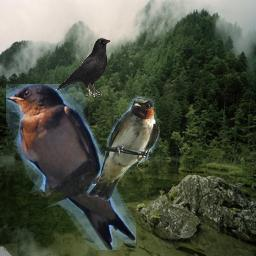Crow: (56, 37, 111, 97)
Swallow: (6, 84, 136, 250), (86, 96, 160, 201)
